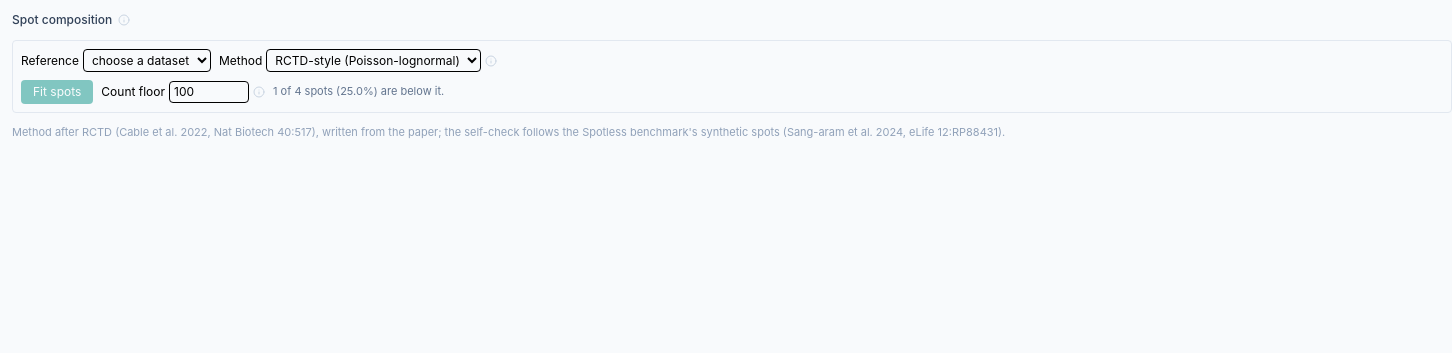
Test case: SpotCompositionSubtab › runs the self-check and shows both methods
Step 1. Select "Atlas" in the dropdown named "Reference dataset" → {"x": 147, "y": 60}, box [83, 49, 211, 72]
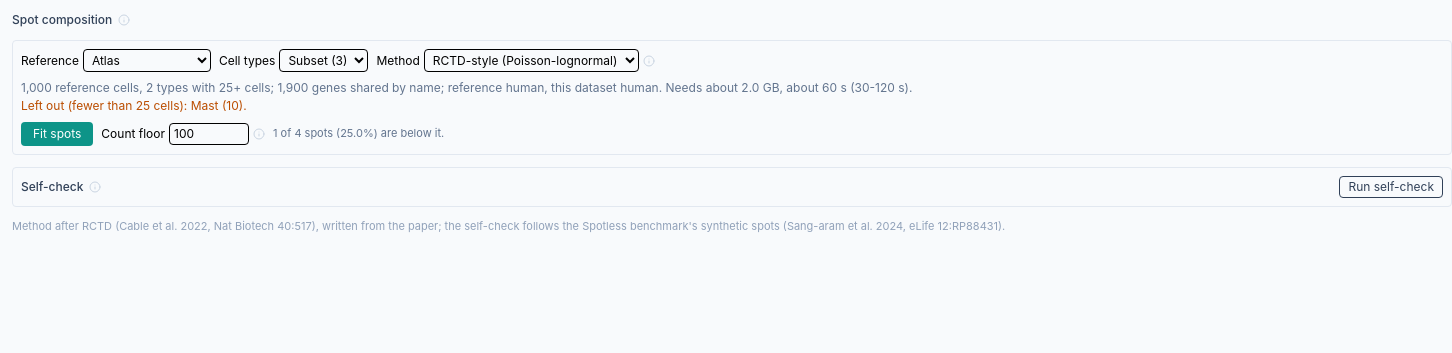
Check: the element with test id "spot-reference-check" is shown, box [21, 80, 912, 113]
Step 2. Click the button "Run self-check" → {"x": 1391, "y": 187}, box [1340, 176, 1443, 198]
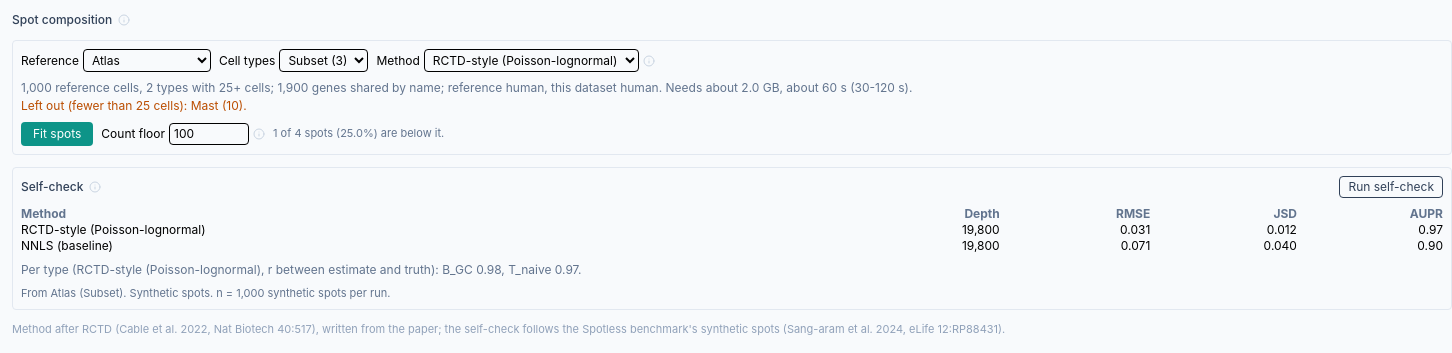
Check: the table with test id "spot-check-table" shows "0.031", box [1120, 222, 1150, 237]
Check: the table with test id "spot-check-table" shows "NNLS (baseline)", box [21, 238, 113, 253]
Check: the element with test id "spot-check" shows "B_GC 0.98", box [442, 262, 578, 277]
